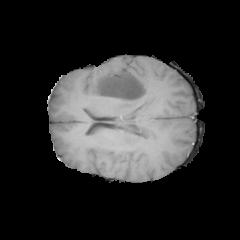glioma: (88, 69, 148, 165)
